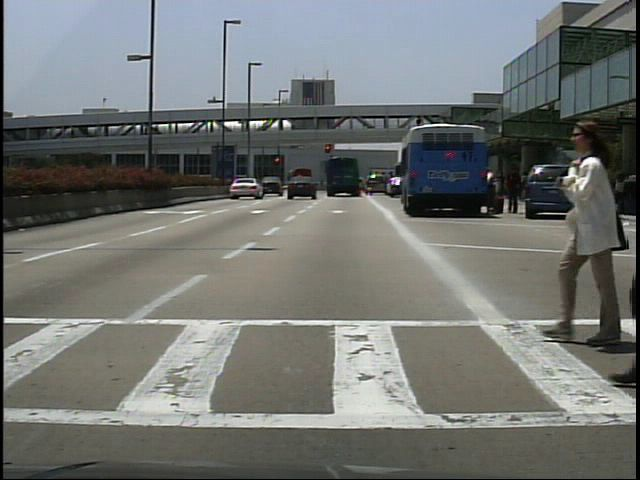person: (545, 116, 625, 350), (582, 166, 602, 218), (484, 163, 502, 215), (503, 165, 522, 214)
